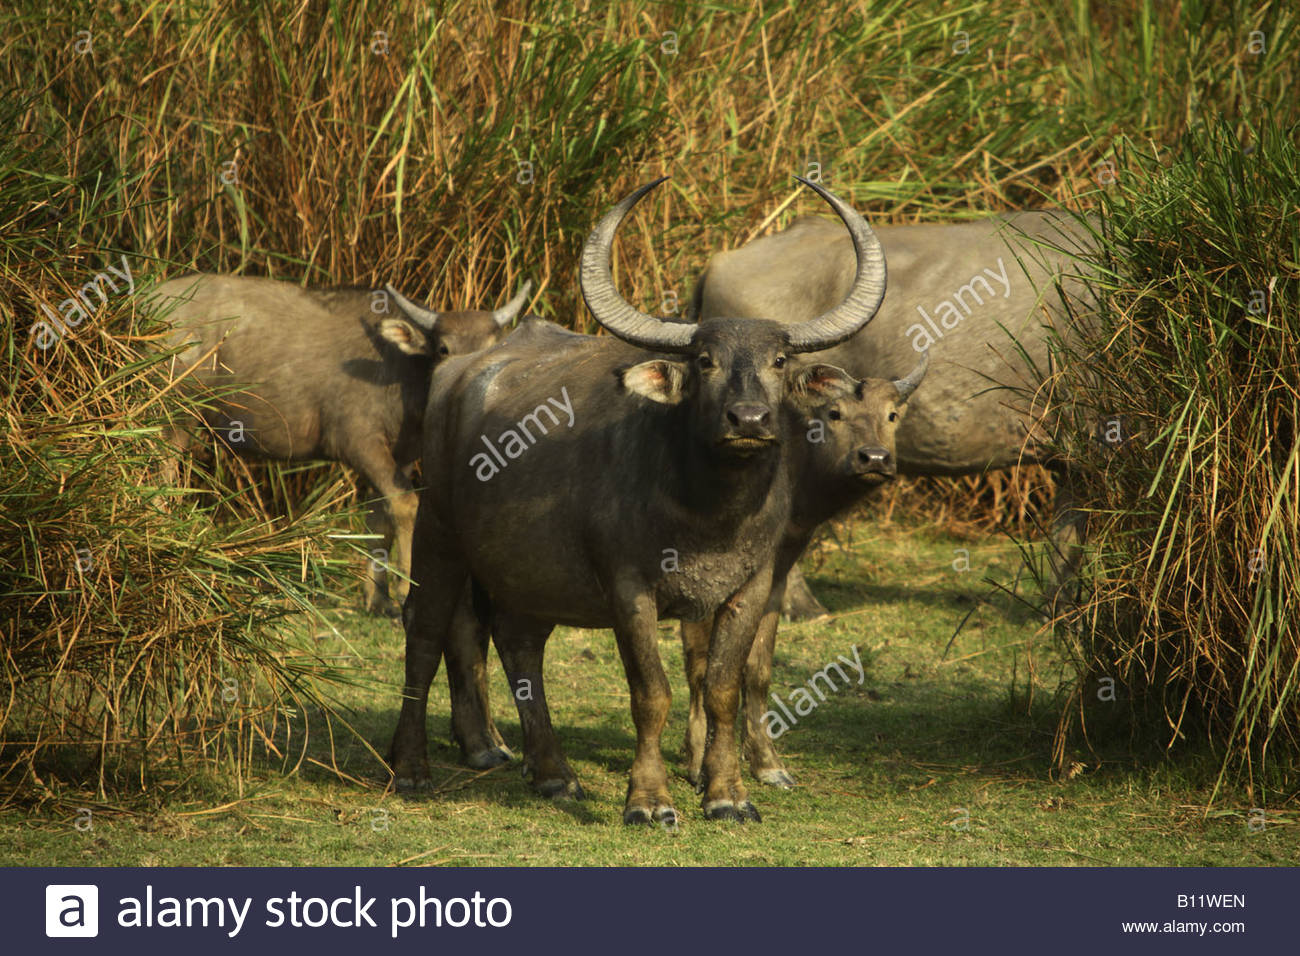buffalo: (378, 167, 892, 824), (706, 195, 1165, 646), (116, 275, 565, 616), (731, 342, 929, 577)
